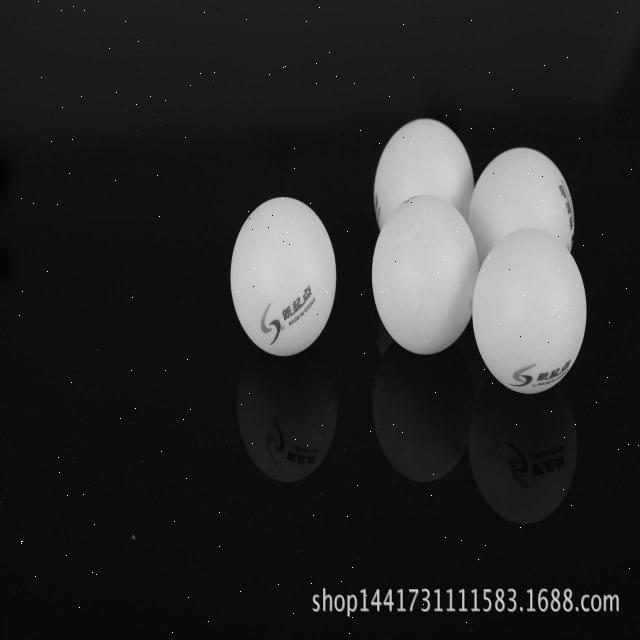ping-pong-ball: (474, 225, 586, 396), (227, 194, 339, 362), (372, 193, 479, 362), (470, 144, 580, 279), (378, 120, 472, 254)
